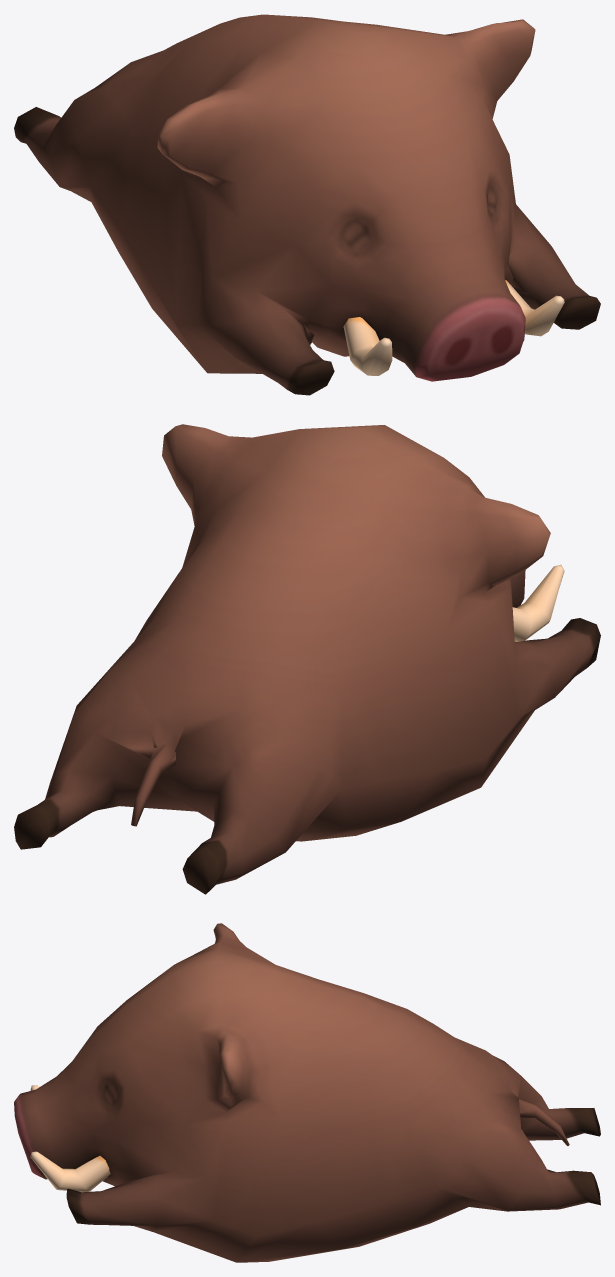
File: boarNode_lod.fbx
3 renders of one model, top to bottom at view 1: azimuth 30°, elevation 25°; view 2: azimuth 150°, elevation 25°; view 3: azimuth 270°, elevation 25°, orthographic. The views are drawn at different scales.
Visible parts, largest first — view 1: boar_LOD0; view 2: boar_LOD0; view 3: boar_LOD0.
Part boxes in pixels (box(x1,y1,x2,y2)): boar_LOD0: box(14, 14, 600, 395); boar_LOD0: box(14, 424, 600, 894); boar_LOD0: box(14, 923, 600, 1262).
Size of what is drawn, in the model's own units: 71.55 by 59.18 by 121.
